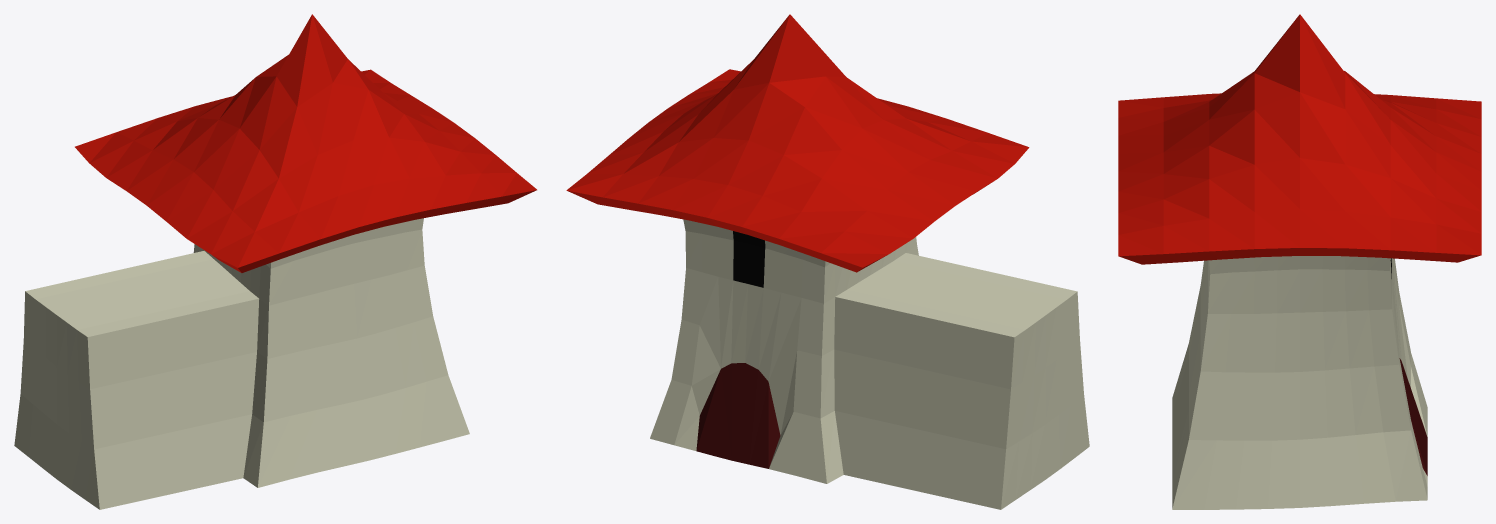
Rendered from casa.obj.
3 renders of one model, left to right at view 1: azimuth 30°, elevation 25°; view 2: azimuth 150°, elevation 25°; view 3: azimuth 270°, elevation 25°, orthographic. The views are drawn at different scales.
Size of the model in its own units: 5.2 by 5.06 by 3.73.
